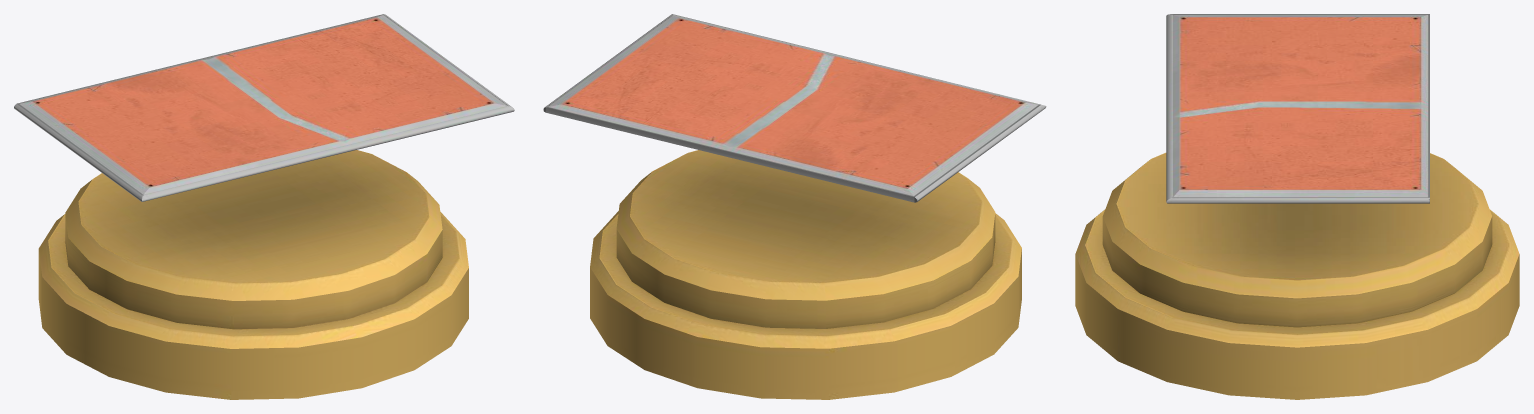
The model's file is PLATOURO.fbx.
3 views of the same model, side by side, from view 1: azimuth 30°, elevation 25°; view 2: azimuth 150°, elevation 25°; view 3: azimuth 270°, elevation 25° (orthographic). The views are drawn at different scales.
Parts seen in each view (by area): view 1: polySurface65, polySurface60; view 2: polySurface65, polySurface60; view 3: polySurface65, polySurface60.
Part boxes in pixels (x1,y1,x2,y2): polySurface65: (38,150,468,399); polySurface60: (14,14,514,201); polySurface65: (590,150,1021,399); polySurface60: (543,14,1046,202); polySurface65: (1075,152,1519,399); polySurface60: (1166,14,1429,203).
Bounding box in the file's own units: 0.4897 × 0.2469 × 0.4773.
Materials: 1 (1 with a texture image).
